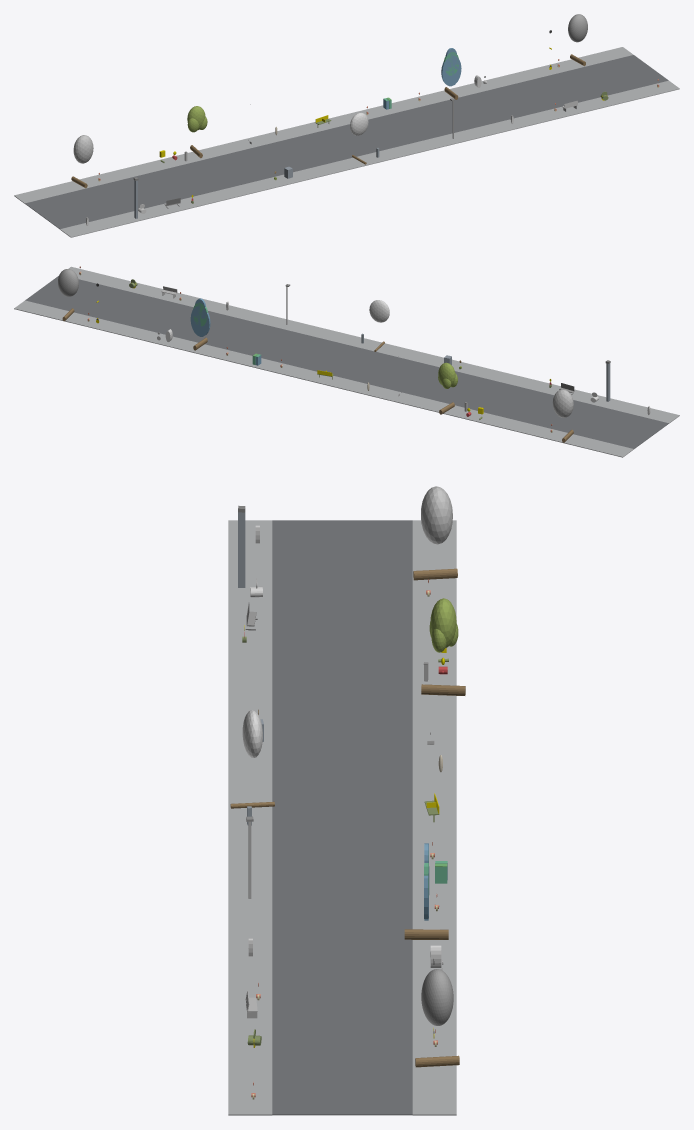
3 renders of one model, top to bottom at view 1: azimuth 30°, elevation 25°; view 2: azimuth 150°, elevation 25°; view 3: azimuth 270°, elevation 25°, orthographic. The views are drawn at different scales.
Parts seen in each view (by area): view 1: road_slab, sidewalk_left, sidewalk_right, inst_0015, inst_0012, inst_0016, inst_0013, inst_0014; view 2: road_slab, sidewalk_right, sidewalk_left, inst_0015, inst_0012, inst_0016, inst_0013, inst_0014; view 3: road_slab, sidewalk_left, sidewalk_right, inst_0012, inst_0016, inst_0013, inst_0014, inst_0015.
Part boxes in pixels (bbox=[...]): road_slab: bbox=[25, 55, 668, 229]; sidewalk_left: bbox=[60, 80, 679, 237]; sidewalk_right: bbox=[14, 47, 633, 203]; inst_0015: bbox=[441, 48, 461, 99]; inst_0012: bbox=[71, 135, 93, 188]; inst_0016: bbox=[568, 14, 587, 66]; inst_0013: bbox=[187, 106, 207, 158]; inst_0014: bbox=[350, 112, 368, 164]; road_slab: bbox=[25, 276, 668, 448]; sidewalk_right: bbox=[14, 300, 633, 457]; sidewalk_left: bbox=[68, 266, 679, 423]; inst_0015: bbox=[190, 298, 210, 350]; inst_0012: bbox=[552, 389, 573, 442]; inst_0016: bbox=[58, 269, 78, 321]; inst_0013: bbox=[438, 362, 457, 414]; inst_0014: bbox=[369, 300, 389, 351]; road_slab: bbox=[272, 520, 412, 1115]; sidewalk_left: bbox=[228, 520, 272, 1115]; sidewalk_right: bbox=[412, 520, 456, 1115]; inst_0012: bbox=[413, 486, 457, 580]; inst_0016: bbox=[415, 969, 459, 1067]; inst_0013: bbox=[421, 598, 465, 695]; inst_0014: bbox=[230, 710, 274, 808]; inst_0015: bbox=[404, 843, 448, 939].
Bounding box in the file's own units: 80 × 6.08 × 13.51.
